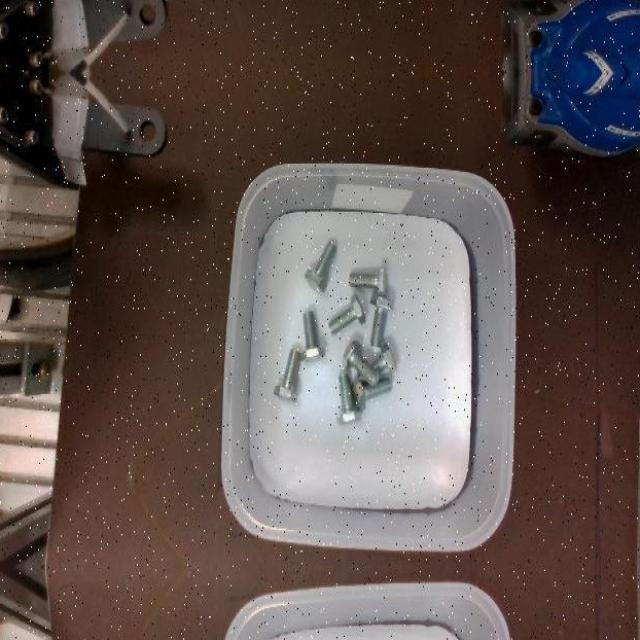screw: (342, 339, 378, 386), (304, 240, 336, 292), (328, 292, 366, 335), (272, 349, 300, 402), (369, 294, 394, 346), (300, 308, 324, 361), (337, 372, 361, 423), (348, 268, 387, 296)
